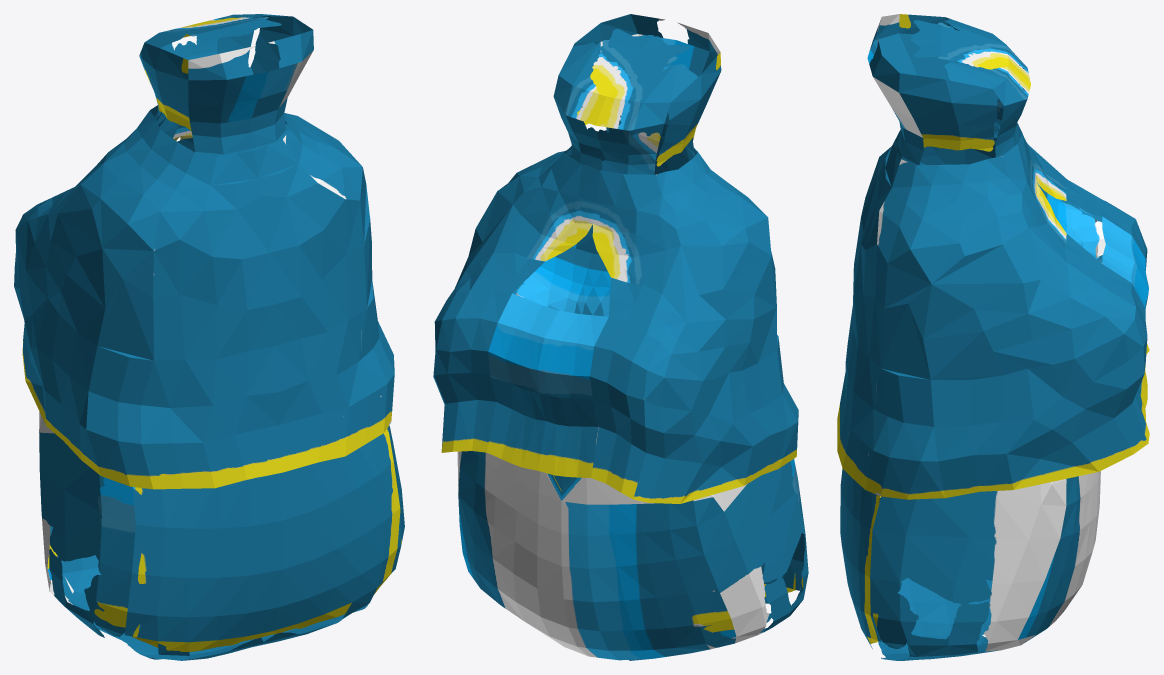
The picture shows the model from 3 angles, left to right: view 1: azimuth 30°, elevation 25°; view 2: azimuth 150°, elevation 25°; view 3: azimuth 270°, elevation 25°; orthographic projection. The views are drawn at different scales.
Parts seen in each view (by area): view 1: 立方体; view 2: 立方体; view 3: 立方体.
Boxes of the visible parts, x1=… form: 立方体: x1=14, y1=14, x2=404, y2=660; 立方体: x1=433, y1=14, x2=808, y2=660; 立方体: x1=837, y1=14, x2=1149, y2=660.
Size of the model in its own units: 0.3351 by 0.617 by 0.2902.
